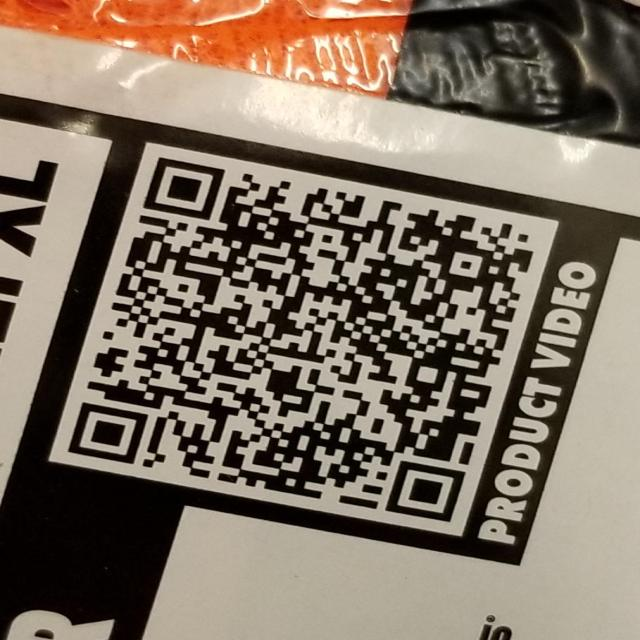QRCode: (60, 142, 550, 535)
